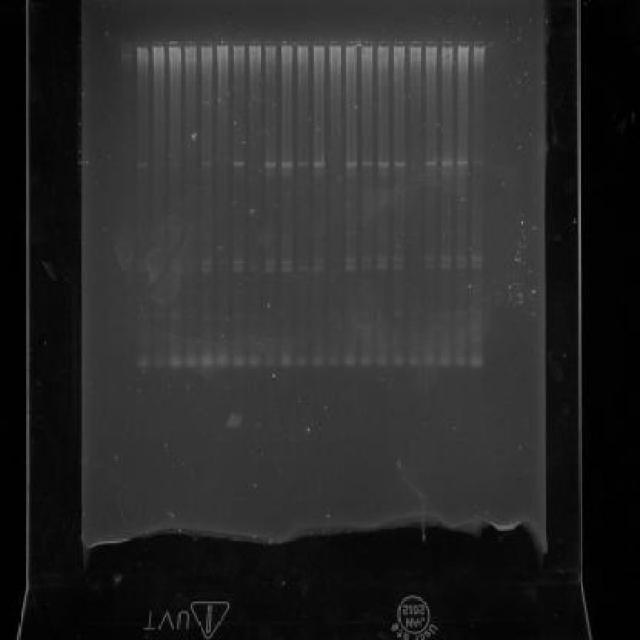B: (135, 354, 151, 372), (214, 354, 230, 370), (468, 354, 484, 368), (230, 354, 246, 368), (200, 354, 214, 370), (184, 354, 198, 370), (152, 354, 166, 370), (454, 354, 468, 368), (422, 354, 436, 368), (279, 354, 293, 368), (168, 356, 182, 370), (438, 356, 452, 369), (392, 355, 406, 368), (376, 356, 389, 369), (343, 254, 357, 266), (248, 354, 260, 368), (408, 355, 420, 368), (344, 355, 356, 368), (328, 355, 340, 368), (264, 355, 276, 368), (440, 156, 454, 167), (359, 356, 373, 367), (310, 356, 324, 367), (264, 158, 276, 170), (295, 357, 308, 368), (312, 158, 326, 168), (360, 158, 374, 168), (424, 158, 438, 168), (199, 266, 213, 276), (344, 264, 358, 274), (374, 262, 388, 272), (390, 262, 404, 272), (312, 264, 326, 274), (152, 312, 166, 322), (456, 158, 470, 167), (279, 257, 293, 266), (374, 253, 388, 262), (390, 253, 404, 262), (262, 257, 276, 266), (454, 253, 468, 262), (230, 312, 244, 321), (247, 312, 261, 321), (378, 158, 390, 168), (280, 266, 292, 276), (439, 261, 452, 270), (232, 160, 246, 168), (279, 160, 293, 168), (296, 159, 310, 167), (393, 160, 407, 168), (438, 254, 452, 262), (230, 258, 244, 266), (232, 266, 246, 274), (262, 266, 276, 274), (423, 254, 437, 262), (424, 262, 438, 270), (454, 309, 468, 317), (392, 310, 406, 318), (456, 169, 470, 177), (280, 170, 294, 178), (345, 160, 358, 168), (136, 160, 149, 168), (312, 257, 325, 265), (296, 264, 309, 272), (455, 262, 468, 270), (168, 162, 181, 170), (170, 312, 181, 321), (200, 160, 212, 168), (470, 262, 482, 270), (200, 258, 212, 266), (439, 170, 453, 176), (264, 172, 278, 178), (345, 171, 358, 177), (361, 171, 374, 177), (376, 172, 389, 178), (470, 256, 482, 262)
L: (115, 33, 491, 56)
Pc: (310, 36, 327, 52), (118, 36, 134, 52), (198, 38, 214, 54), (278, 36, 294, 52), (262, 36, 278, 52), (424, 35, 439, 51), (327, 36, 342, 52), (231, 36, 246, 52), (134, 38, 150, 52), (471, 39, 487, 53), (456, 38, 472, 52), (182, 38, 198, 52), (344, 36, 358, 52), (214, 37, 230, 51), (408, 38, 423, 52), (150, 38, 164, 52), (167, 38, 181, 52), (360, 37, 374, 51), (296, 38, 310, 52), (392, 39, 406, 52), (247, 38, 261, 51), (376, 39, 390, 50), (440, 39, 454, 50)
